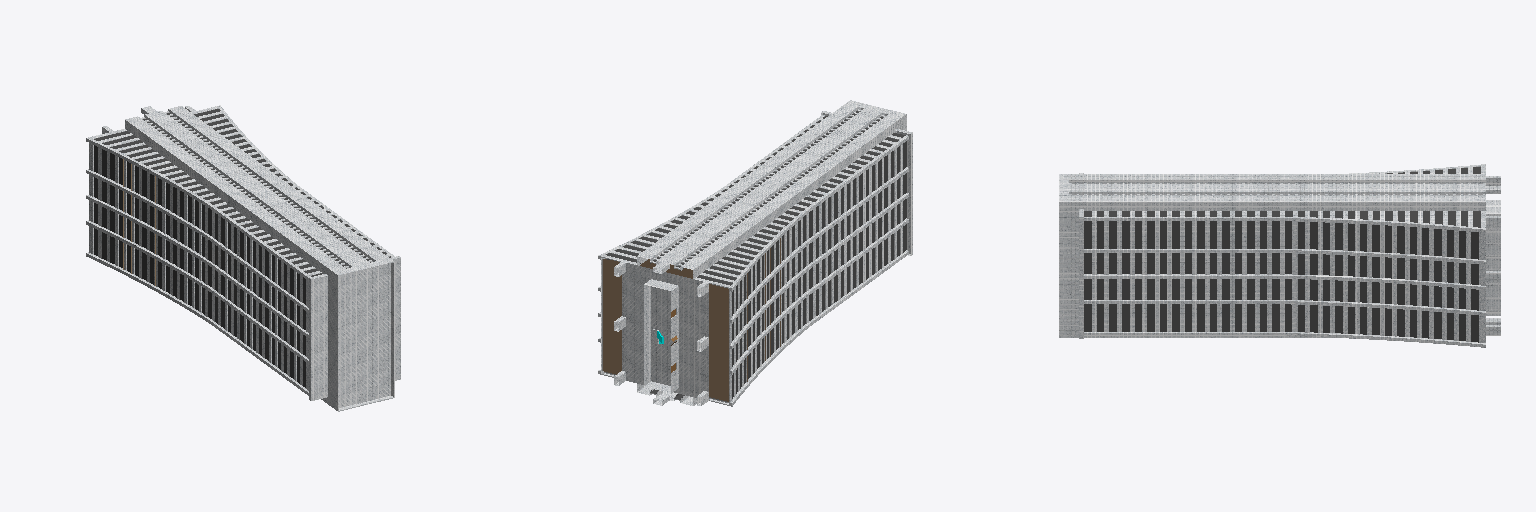
3 views of the same model, side by side, from view 1: azimuth 30°, elevation 25°; view 2: azimuth 150°, elevation 25°; view 3: azimuth 270°, elevation 25° (orthographic).
Parts seen in each view (by area): view 1: Wall_44, Wall_01, Wall_20, Glass_02, Wall_24, Wall_25, Wall_22, Wall_02, Wall_21, Wall_03, Glass_01; view 2: Wall_01, Wall_44, Glass_02, Wall_20, Slab_01, wall_2_01, Wall_24, Wall_25, Wall_23, Wall_02, Glass_01, Wall_03 (+1 smaller); view 3: Wall_01, Wall_20, Glass_02, Wall_24, Wall_44, Wall_25, Wall_21, Wall_22, wall_2_01, Wall_23, Glass_28, Glass_21 (+14 smaller).
Boxes of the visible parts, <box> form: Wall_44: <box>86,105,400,411</box>; Wall_01: <box>125,106,391,409</box>; Wall_20: <box>90,143,308,390</box>; Glass_02: <box>94,109,390,387</box>; Wall_24: <box>86,196,308,395</box>; Wall_25: <box>86,110,385,312</box>; Wall_22: <box>309,256,400,410</box>; Wall_02: <box>141,111,372,267</box>; Wall_21: <box>328,280,335,399</box>; Wall_03: <box>214,202,321,275</box>; Glass_01: <box>143,113,370,268</box>; Wall_01: <box>637,102,903,405</box>; Wall_44: <box>598,108,910,403</box>; Glass_02: <box>606,116,906,401</box>; Wall_20: <box>602,144,902,401</box>; Slab_01: <box>603,238,780,401</box>; wall_2_01: <box>644,279,678,393</box>; Wall_24: <box>598,194,908,406</box>; Wall_25: <box>598,116,908,323</box>; Wall_23: <box>614,262,708,405</box>; Wall_02: <box>650,109,885,400</box>; Glass_01: <box>650,111,882,399</box>; Wall_03: <box>794,135,901,208</box>; Wall_01: <box>1064,174,1485,337</box>; Wall_20: <box>1092,221,1483,342</box>; Glass_02: <box>1084,167,1480,331</box>; Wall_24: <box>1084,276,1485,347</box>; Wall_44: <box>1084,164,1485,344</box>; Wall_25: <box>1084,166,1485,264</box>; Wall_21: <box>1064,211,1078,327</box>; Wall_22: <box>1059,173,1083,338</box>; wall_2_01: <box>1486,200,1500,315</box>; Wall_23: <box>1486,176,1500,335</box>; Glass_28: <box>1397,226,1404,336</box>; Glass_21: <box>1310,222,1317,332</box>.
Size of the model in its own units: 1487 by 1440 by 4224.
Materials: 5 (1 with a texture image).